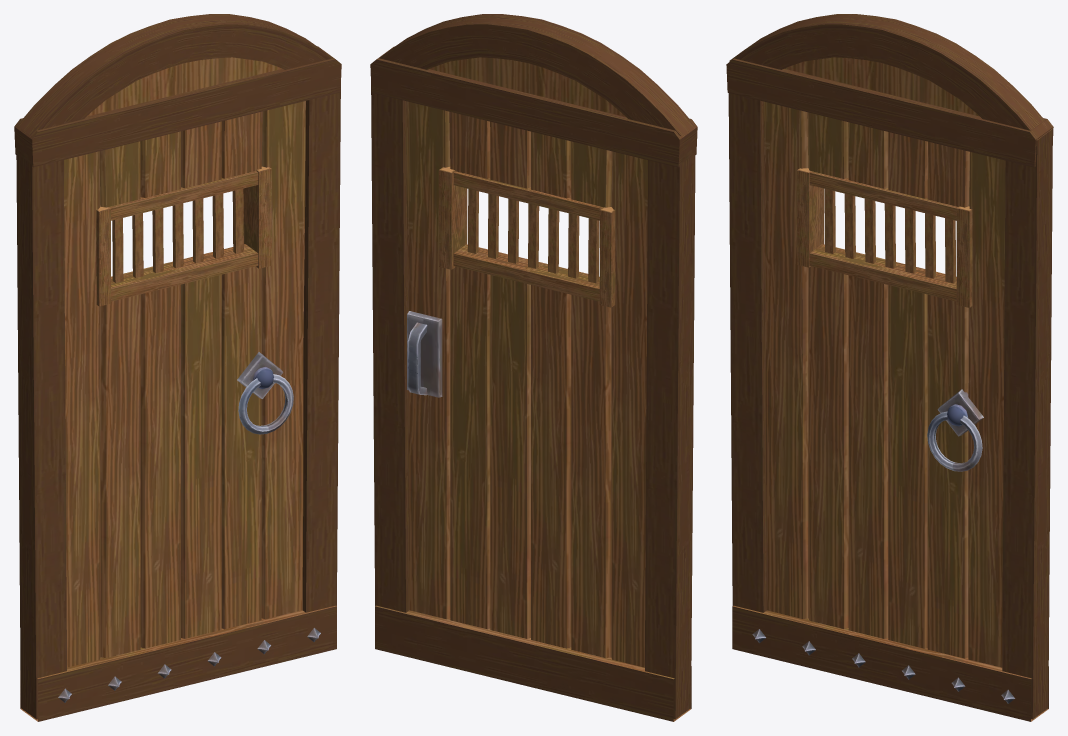
File: door_8_round.glb
3 views of the same model, side by side, from view 1: azimuth 30°, elevation 25°; view 2: azimuth 150°, elevation 25°; view 3: azimuth 330°, elevation 25° (orthographic).
Bounding box in the file's own units: 1.15 × 2.32 × 0.1995.
Materials: 2 (2 with a texture image).
